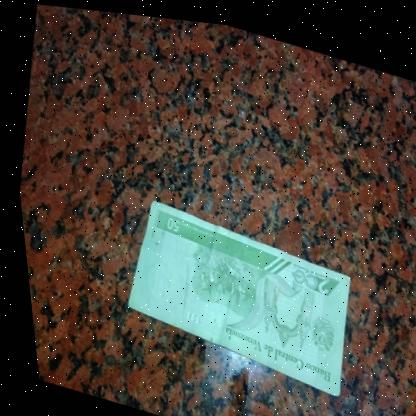fifty-back-vef: (105, 188, 360, 393)
